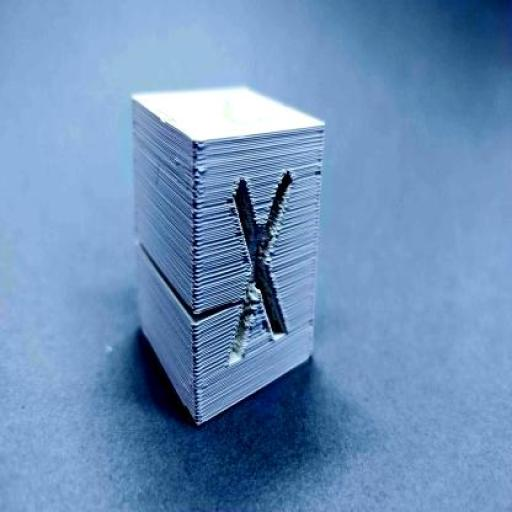cracks: (132, 236, 172, 292), (215, 289, 250, 329), (179, 301, 212, 330)
